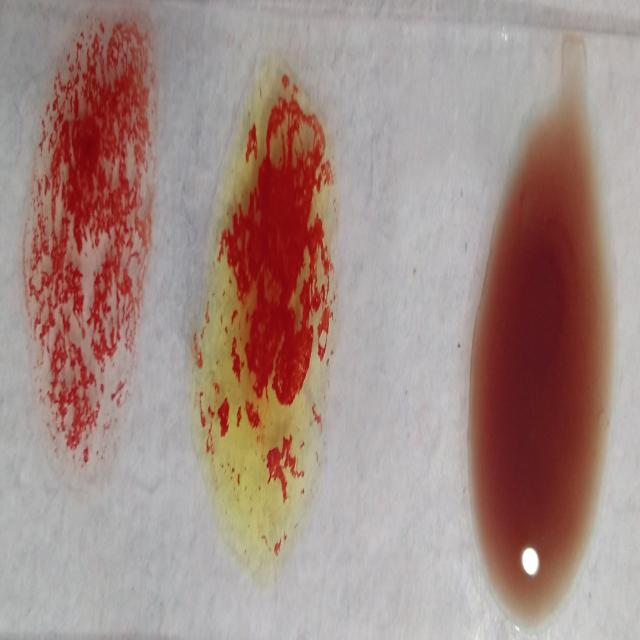B: (200, 51, 334, 582)
D: (28, 14, 152, 472)
